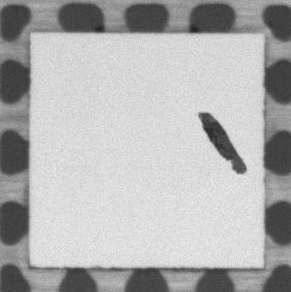DIE_INK: (196, 109, 251, 179)
